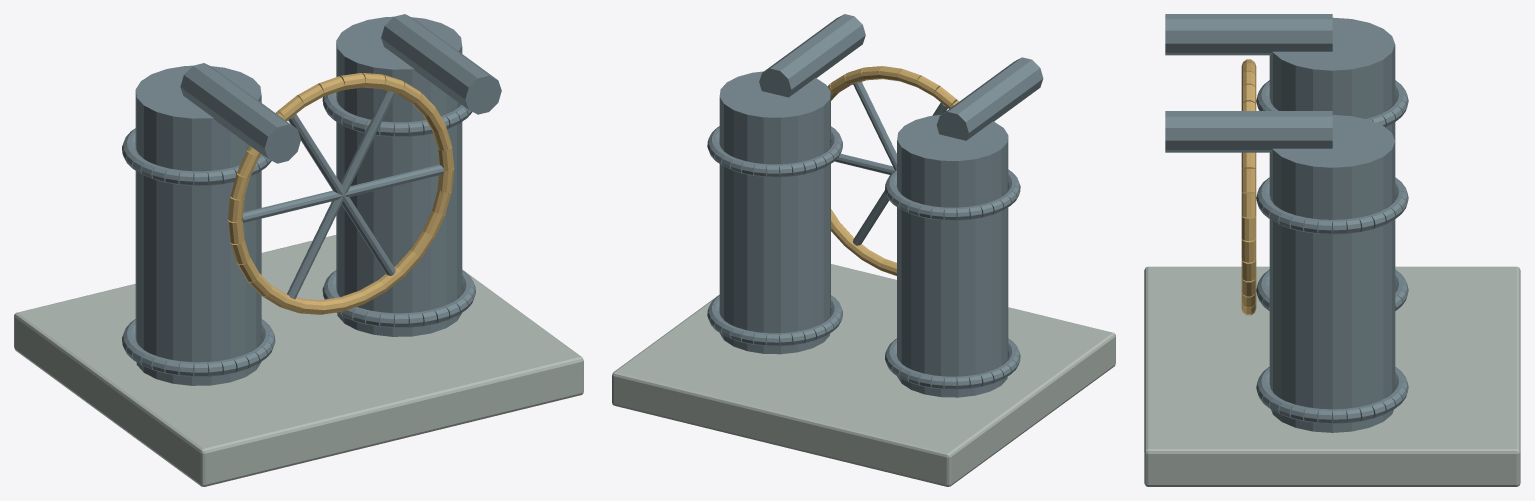
Rendered from a5_secondary.glb.
The picture shows the model from 3 angles, left to right: view 1: azimuth 30°, elevation 25°; view 2: azimuth 150°, elevation 25°; view 3: azimuth 270°, elevation 25°; orthographic projection. The views are drawn at different scales.
Parts seen in each view (by area): view 1: Body.082; view 2: Body.082; view 3: Body.082.
Part boxes in pixels (x1,y1,x2,y2): Body.082: (14, 14, 583, 486); Body.082: (612, 14, 1115, 486); Body.082: (1144, 14, 1520, 486).
Size of the model in its own units: 2.1 by 1.75 by 1.8.
